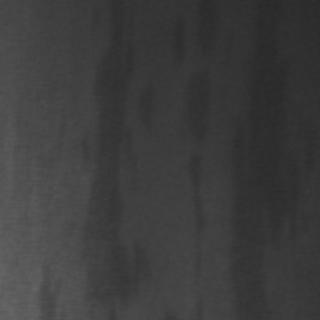inclusion: (228, 0, 302, 312), (80, 1, 148, 308), (167, 1, 210, 316), (29, 260, 57, 316)
